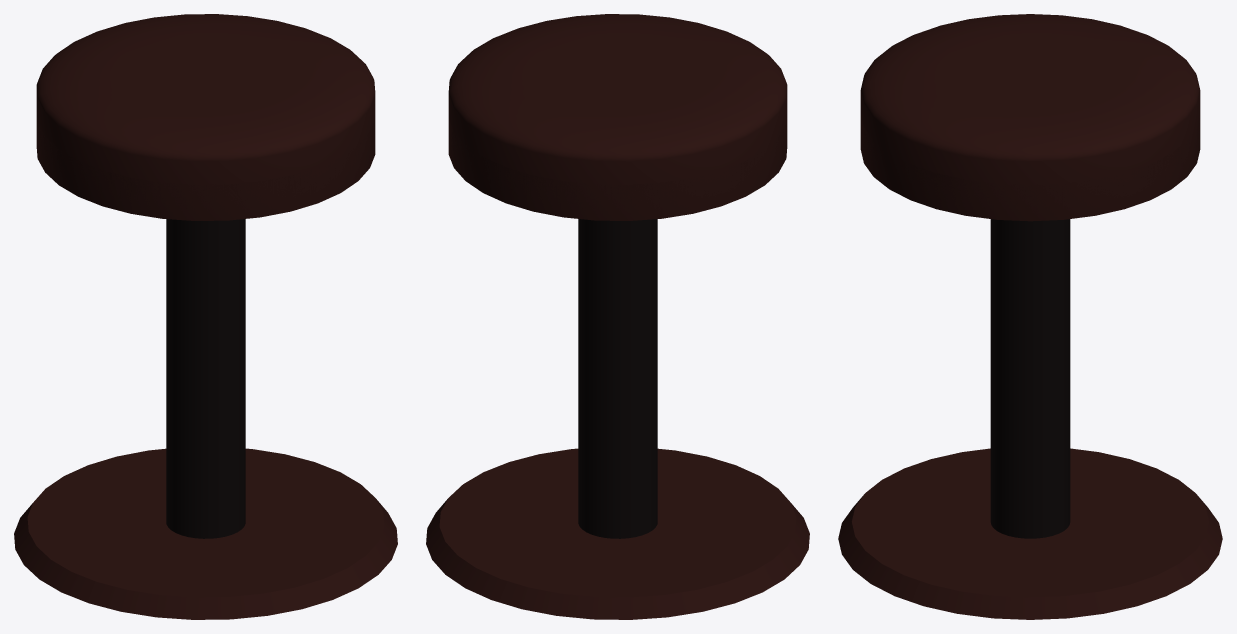
Rendered from stoolAtlas.fbx.
The picture shows the model from 3 angles, left to right: view 1: azimuth 30°, elevation 25°; view 2: azimuth 150°, elevation 25°; view 3: azimuth 270°, elevation 25°; orthographic projection.
Visible parts, largest first — view 1: stool; view 2: stool; view 3: stool.
Part boxes in pixels (x1,y1,x2,y2): stool: (14, 14, 397, 619); stool: (426, 14, 809, 619); stool: (838, 14, 1222, 619).
Bounding box in the file's own units: 257 × 343 × 257.
